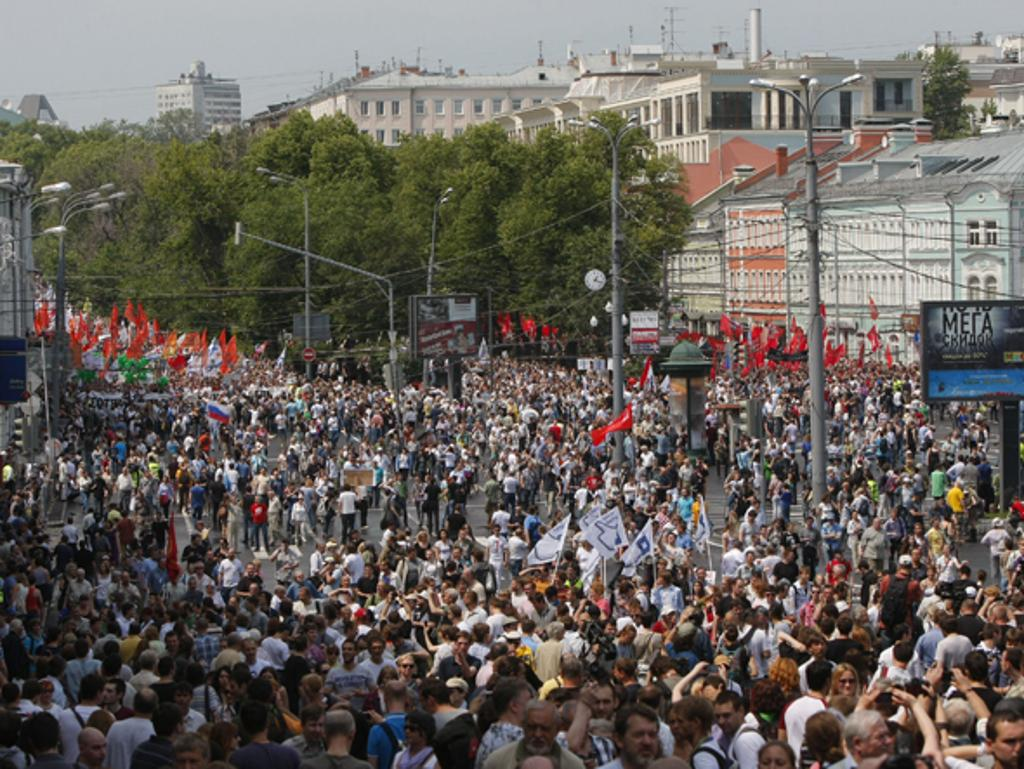face: (624, 717, 658, 768), (994, 723, 1024, 769), (526, 710, 555, 756), (862, 724, 892, 762), (83, 734, 107, 766), (518, 693, 541, 724), (592, 691, 614, 721), (676, 712, 698, 742), (717, 705, 737, 734), (762, 747, 787, 769), (305, 717, 326, 742), (669, 717, 688, 741), (405, 721, 423, 746), (177, 752, 203, 769), (551, 700, 570, 723), (838, 672, 856, 695), (227, 729, 242, 752), (230, 681, 247, 701), (448, 689, 465, 708), (102, 685, 118, 704), (176, 691, 191, 710), (1005, 639, 1021, 656), (624, 626, 637, 645), (812, 642, 827, 658), (401, 660, 415, 677), (245, 642, 257, 661), (40, 688, 54, 704), (371, 642, 384, 659), (1000, 652, 1010, 674), (703, 687, 717, 702), (344, 644, 355, 663), (457, 638, 469, 655), (262, 674, 275, 688), (614, 669, 627, 683), (167, 638, 179, 653), (604, 625, 616, 640), (630, 611, 642, 626), (220, 672, 231, 688), (306, 628, 317, 643), (735, 581, 746, 596), (902, 628, 913, 643), (436, 632, 447, 647), (820, 610, 830, 626), (383, 675, 395, 688), (982, 592, 993, 606), (300, 590, 310, 604), (994, 628, 1002, 645), (533, 600, 544, 612), (416, 599, 426, 612), (765, 592, 776, 603), (330, 651, 340, 663), (859, 609, 869, 621), (751, 575, 760, 588), (443, 593, 453, 604), (127, 607, 136, 619), (580, 618, 589, 630), (841, 587, 849, 600), (342, 612, 352, 622), (249, 585, 258, 596), (590, 589, 599, 600), (462, 571, 471, 582), (525, 586, 534, 596), (196, 565, 205, 575), (658, 576, 667, 586), (733, 607, 743, 616), (825, 591, 834, 601), (297, 573, 305, 584), (812, 588, 820, 599), (832, 569, 840, 580), (377, 582, 385, 593), (464, 594, 472, 605), (509, 623, 517, 634), (511, 582, 520, 591), (190, 580, 198, 590), (913, 552, 921, 562), (788, 553, 796, 563), (80, 600, 88, 610), (94, 622, 102, 632), (460, 531, 467, 542), (783, 587, 790, 598), (449, 609, 456, 620), (73, 609, 81, 618), (381, 562, 389, 571), (666, 614, 674, 623), (694, 585, 702, 594), (33, 624, 41, 633), (248, 602, 257, 610), (122, 576, 130, 585), (207, 585, 215, 594), (623, 591, 632, 599), (148, 595, 156, 604), (248, 566, 255, 576), (747, 554, 754, 564), (721, 580, 728, 590), (660, 562, 666, 573), (566, 571, 574, 579), (641, 588, 649, 596), (366, 568, 373, 577), (699, 571, 706, 580), (928, 570, 935, 579), (915, 527, 922, 536), (229, 600, 236, 609), (78, 572, 85, 581), (803, 571, 809, 581), (229, 551, 235, 561), (440, 584, 446, 594), (427, 553, 434, 561), (454, 551, 461, 559), (668, 535, 675, 543), (874, 522, 881, 530), (282, 544, 289, 552), (195, 538, 202, 546), (208, 555, 215, 563), (69, 568, 76, 576), (160, 561, 167, 569), (259, 595, 266, 603), (459, 583, 465, 592), (430, 583, 436, 592), (934, 520, 940, 529), (220, 541, 226, 550), (411, 551, 417, 560), (353, 534, 359, 543), (319, 544, 325, 553), (343, 580, 350, 587), (494, 528, 500, 536), (755, 504, 761, 512), (441, 533, 447, 540), (825, 497, 831, 504), (627, 511, 633, 518), (677, 525, 683, 532), (808, 520, 813, 528), (102, 565, 107, 573), (917, 493, 922, 501), (749, 516, 755, 522), (830, 520, 836, 526), (256, 565, 262, 571), (640, 492, 646, 498), (908, 453, 913, 460), (421, 536, 426, 542), (853, 514, 858, 520), (682, 490, 687, 496), (662, 507, 667, 513), (846, 485, 851, 491), (389, 539, 393, 546), (788, 475, 793, 480), (864, 470, 869, 475), (517, 509, 521, 515)
